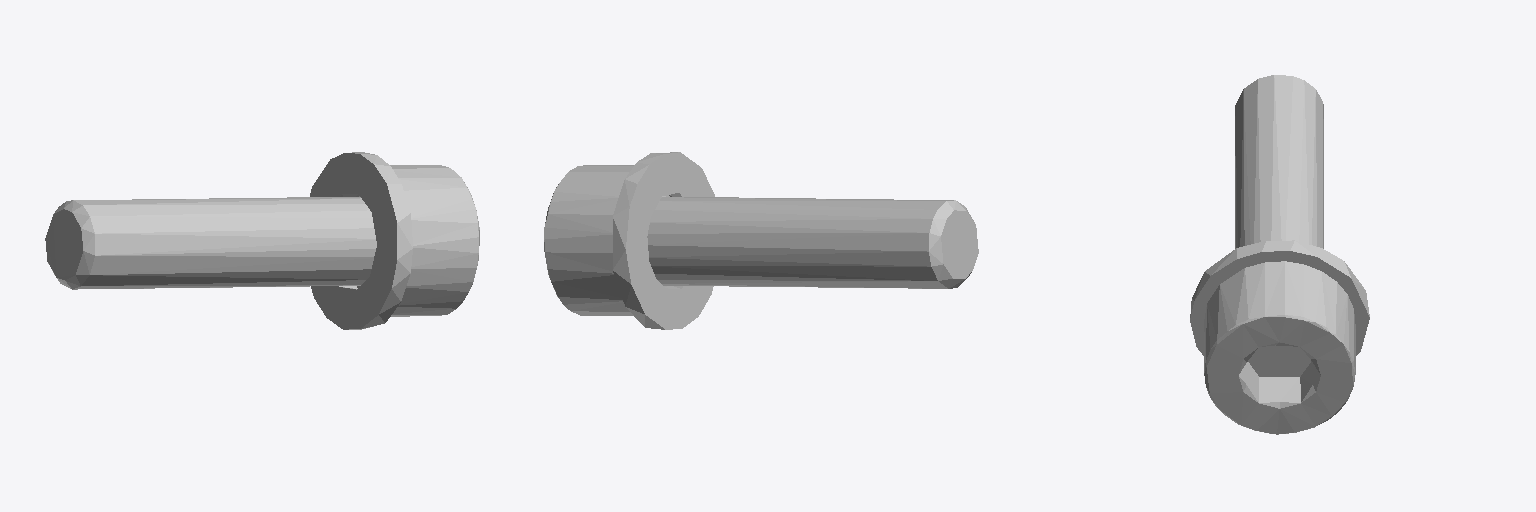
The model's file is Gehaeuse_Schraube.obj.
The picture shows the model from 3 angles: view 1: azimuth 30°, elevation 25°; view 2: azimuth 150°, elevation 25°; view 3: azimuth 270°, elevation 25°; orthographic projection.
Visible parts, largest first — view 1: Pneumatikspanner.007, Pneumatikspanner.035; view 2: Pneumatikspanner.007, Pneumatikspanner.035; view 3: Pneumatikspanner.007, Pneumatikspanner.035.
Boxes of the visible parts, x1,y1,x2,y2 form: Pneumatikspanner.007: [45, 165, 479, 316]; Pneumatikspanner.035: [310, 152, 412, 329]; Pneumatikspanner.007: [544, 165, 978, 315]; Pneumatikspanner.035: [613, 152, 714, 329]; Pneumatikspanner.007: [1204, 75, 1355, 434]; Pneumatikspanner.035: [1190, 240, 1369, 355].
Size of the model in its own units: 0.0257 by 0.0118 by 0.0101.